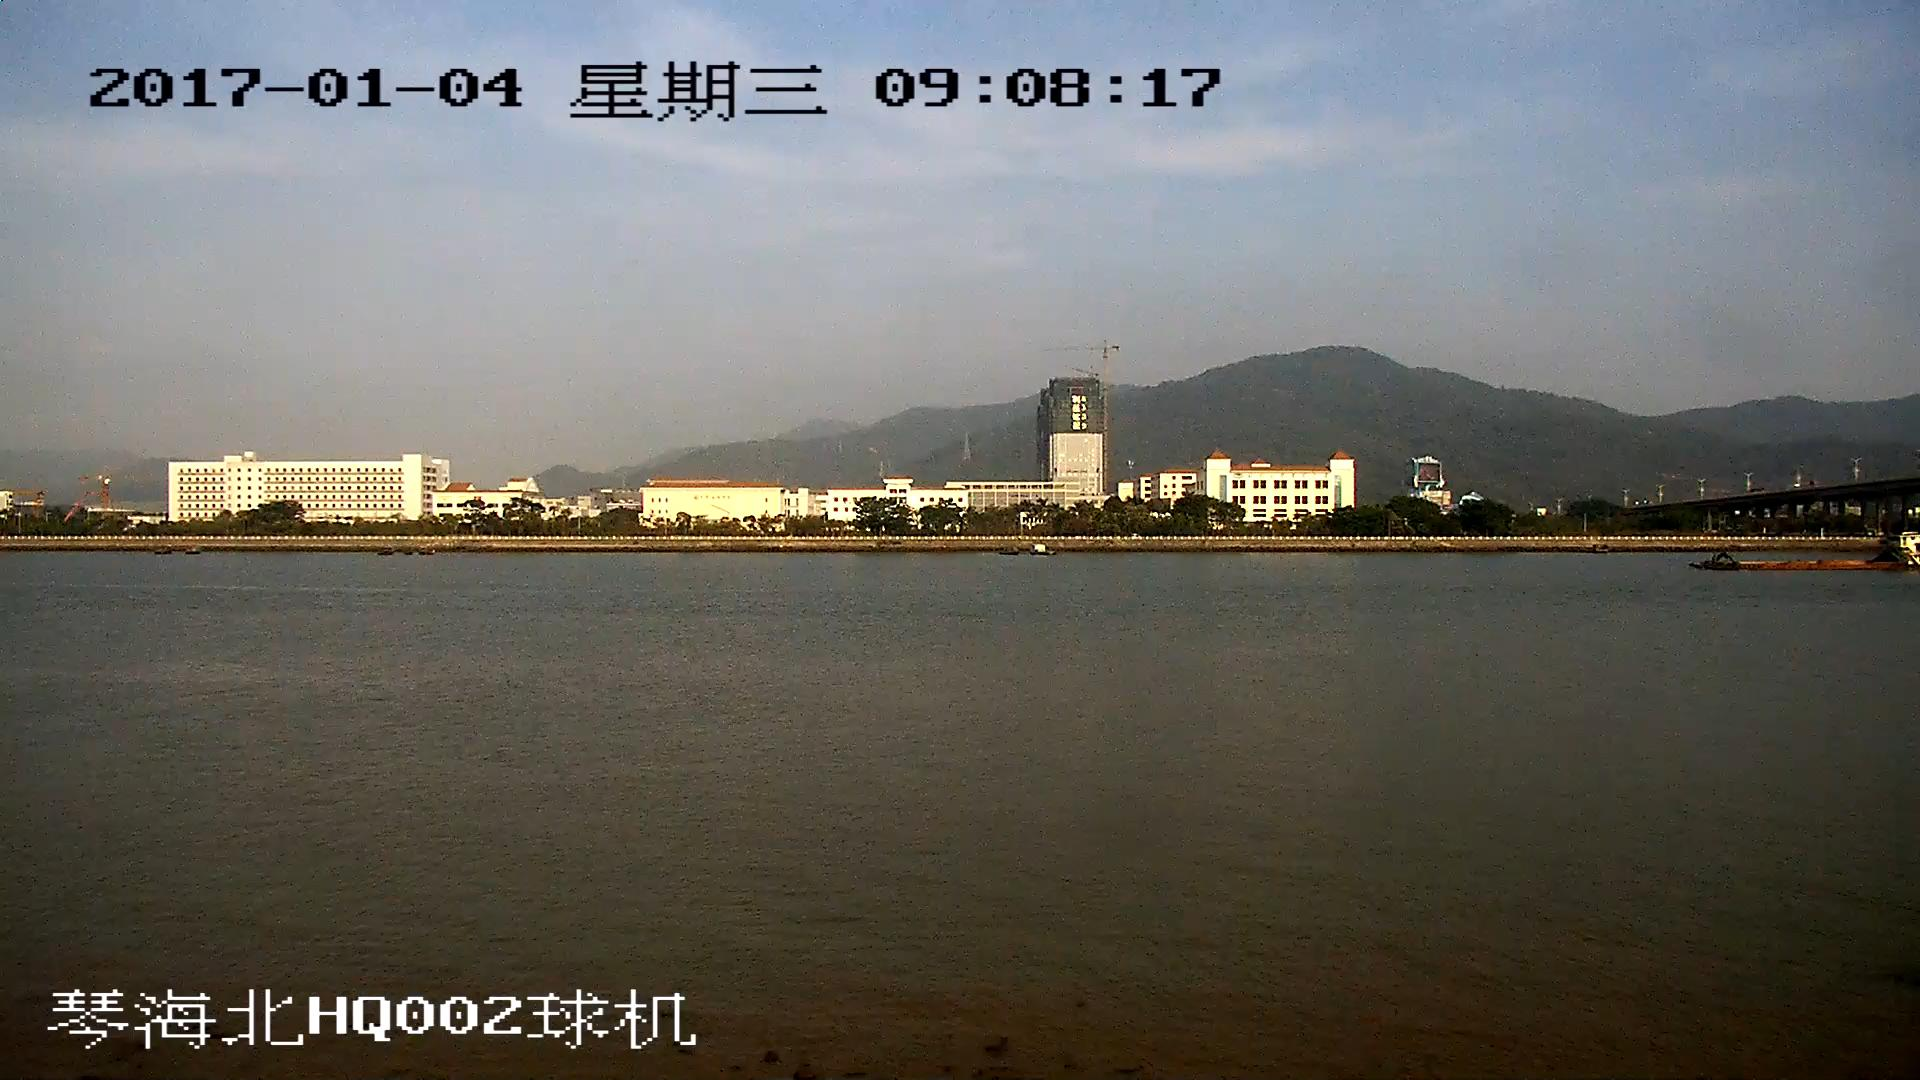ore carrier: (1707, 534, 1920, 571)
